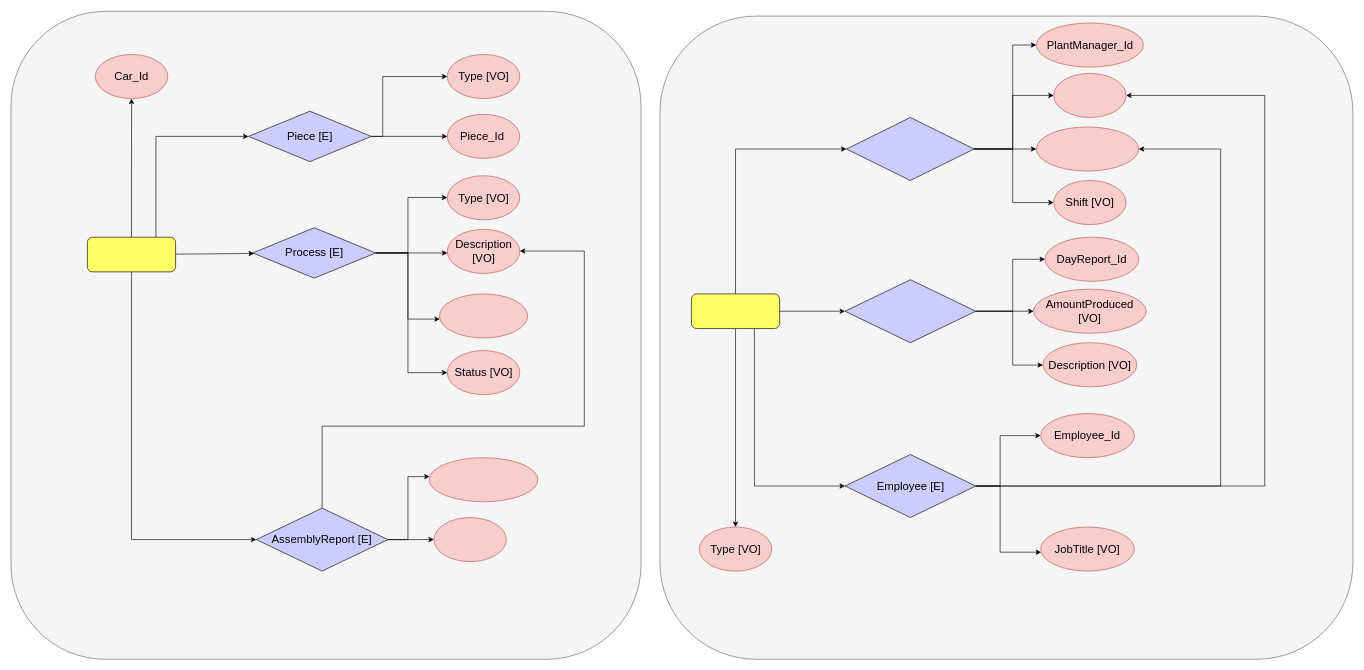
This 1364x670 diagram has some shape labels left out. Here are the shapes that lost their labels. From the top down, the centre of each, then its label:
At (x=1089, y=95): "Name [VO]".
At (x=910, y=148): "PlantManager [E]".
At (x=1087, y=148): "Identification [VO]".
At (x=131, y=254): "Car [AR]".
At (x=483, y=315): "Process_Id".
At (x=735, y=311): "Station [AR]".
At (x=910, y=311): "DayReport [E]".
At (x=483, y=479): "AssemblyReport_Id".
At (x=469, y=539): "TotalTime[VO]".
